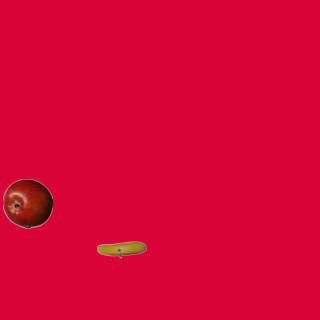Apple Braeburn: (2, 178, 52, 228)
Banana: (96, 224, 146, 274)
